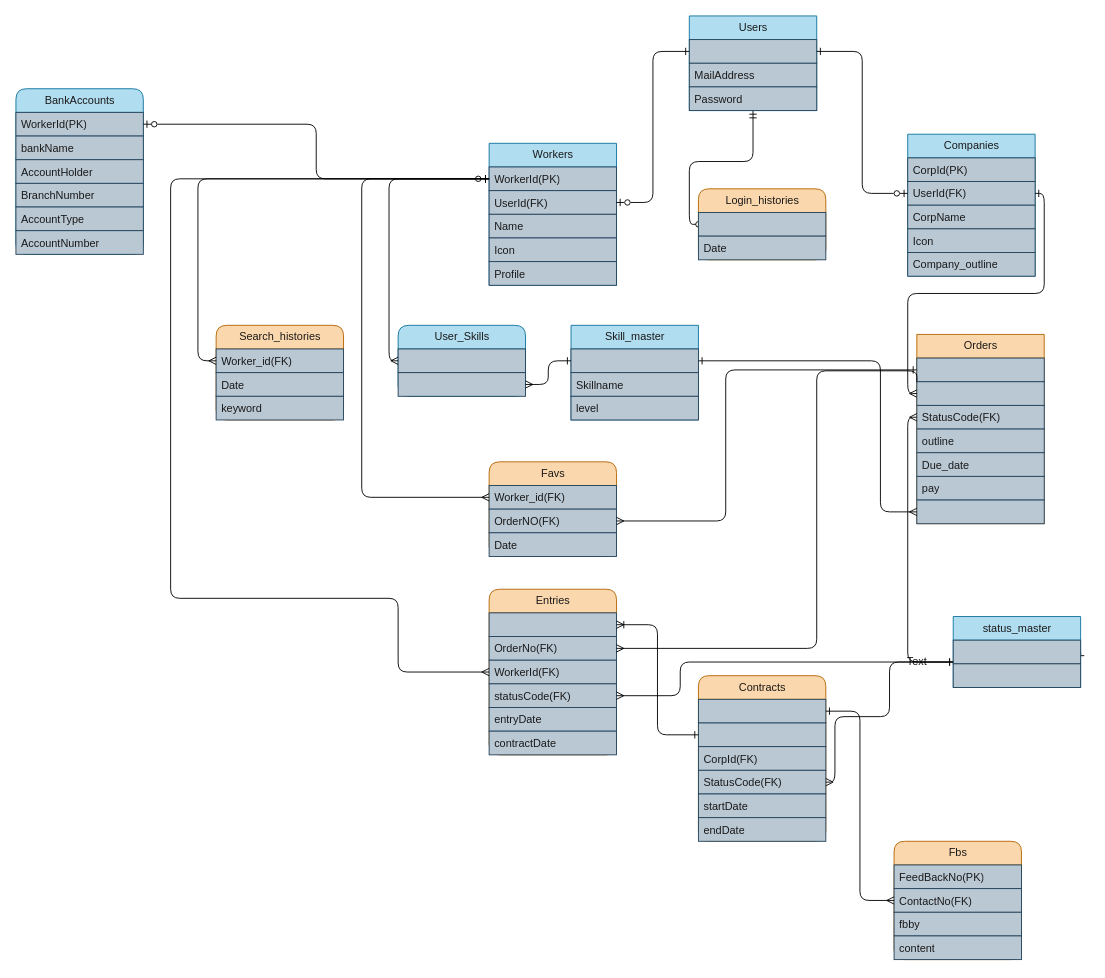
This 1105x978 diagram has some shape labels left out. Here are the shapes that lost their labels. From the top down, the centre of each, then its label:
At pixel 752 51: "UserId(PK)".
At pixel 762 224: "User_id(FK)".
At pixel 461 360: "WorkerId".
At pixel 634 360: "SkillCode(PK)".
At pixel 980 369: "orderNo(PK)".
At pixel 461 384: "SkillCode(FK)".
At pixel 980 393: "orderby(FK)".
At pixel 980 511: "Required_skill_Code".
At pixel 552 624: "EntryNo(PK)".
At pixel 1016 651: "statusCode(PK)".
At pixel 1016 675: "status".
At pixel 762 710: "contractNo(PK)".
At pixel 762 734: "EntryNo(FK)".
